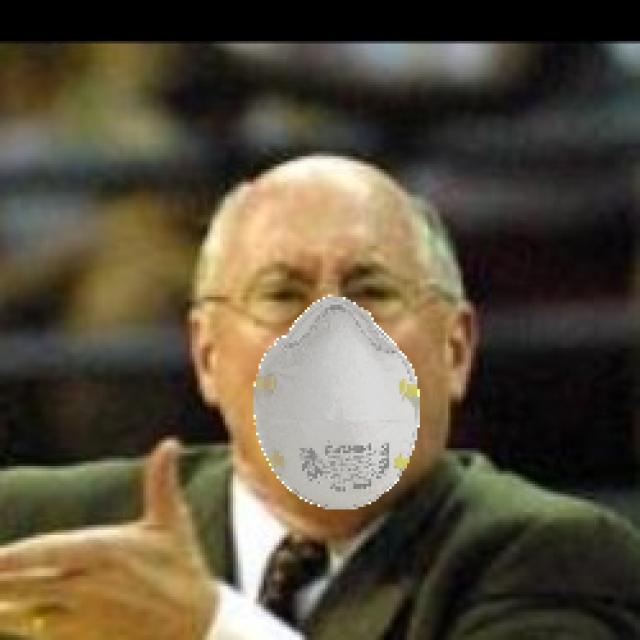mask: (228, 284, 443, 537)
